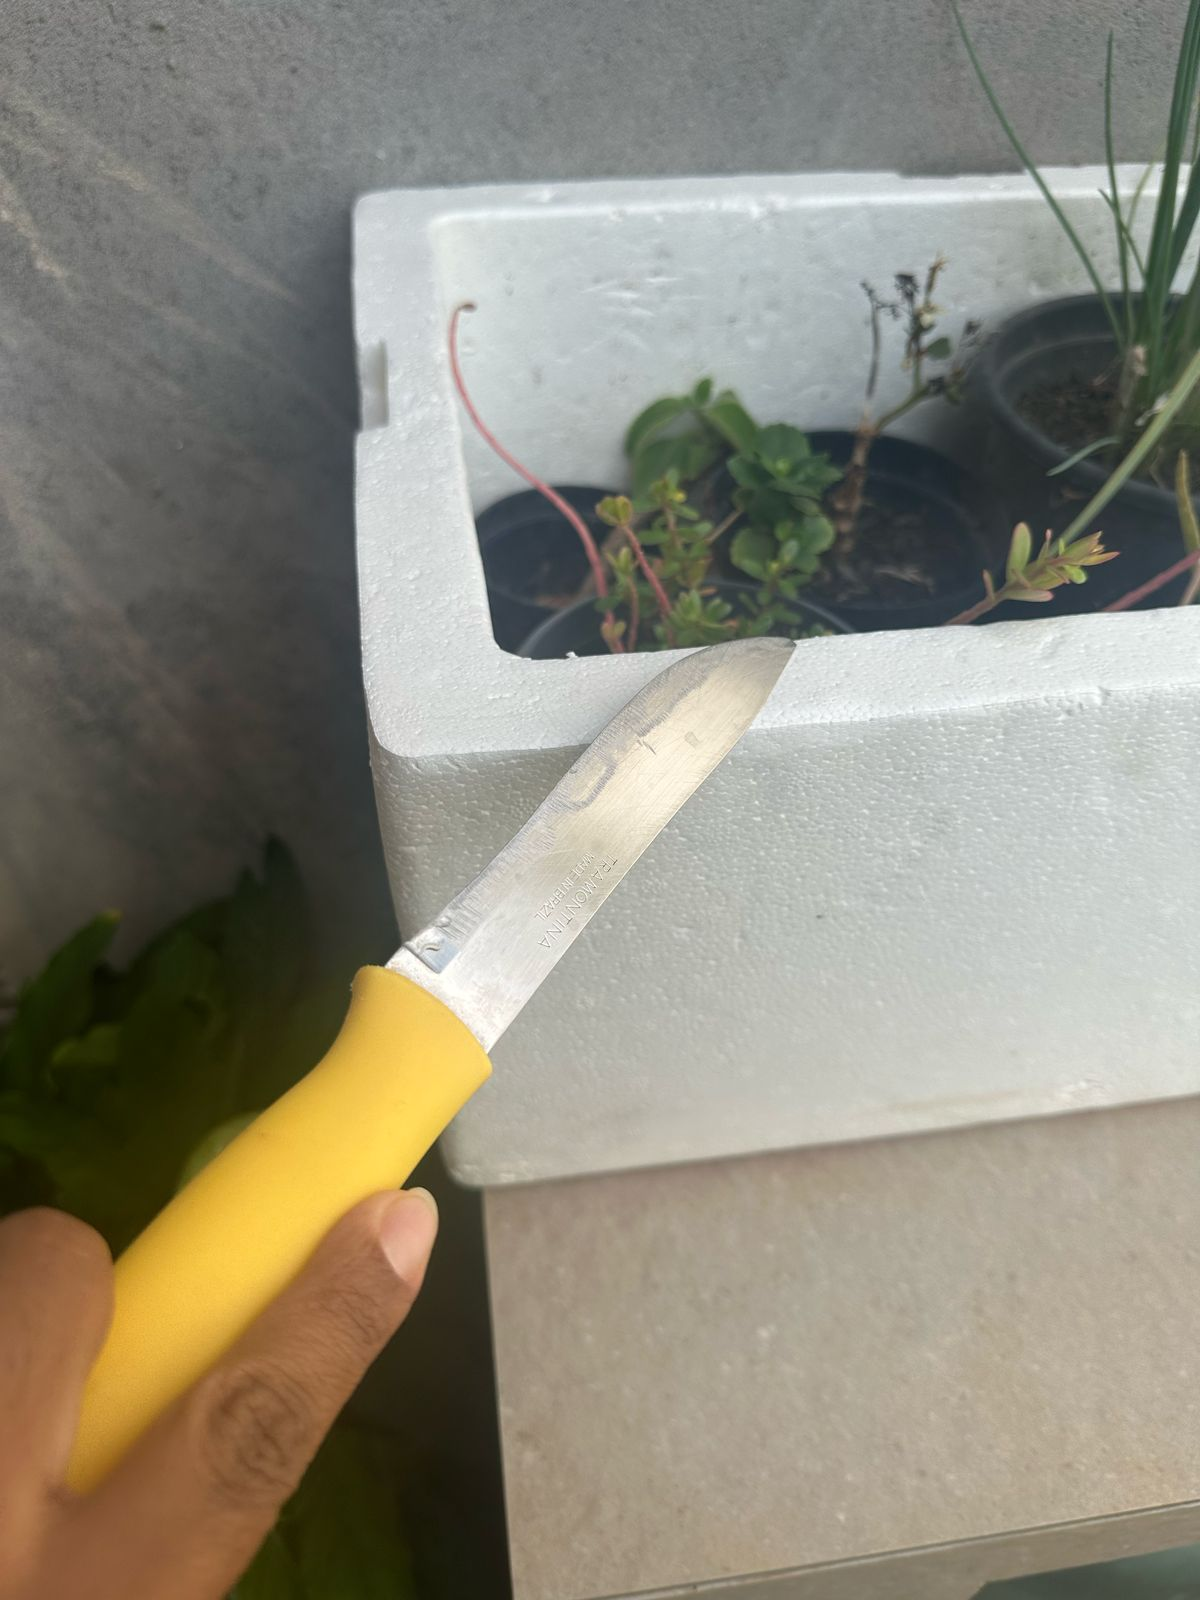faca: (204, 614, 813, 1178)
